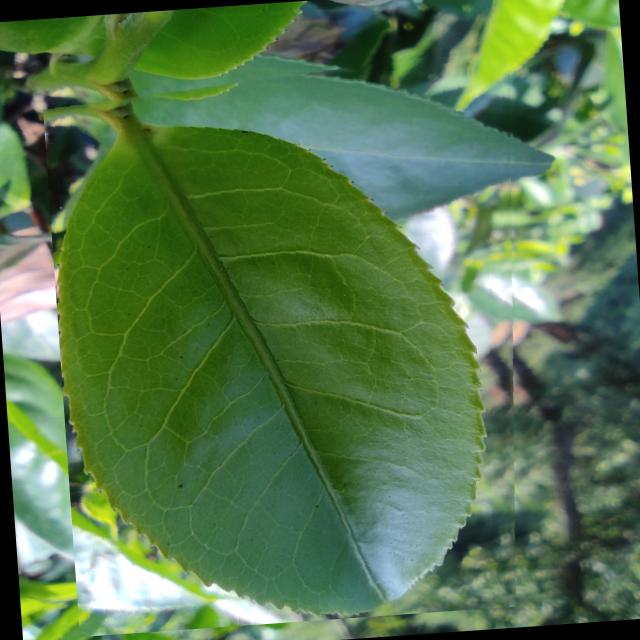Category C(4-7 days): (40, 46, 548, 637)
